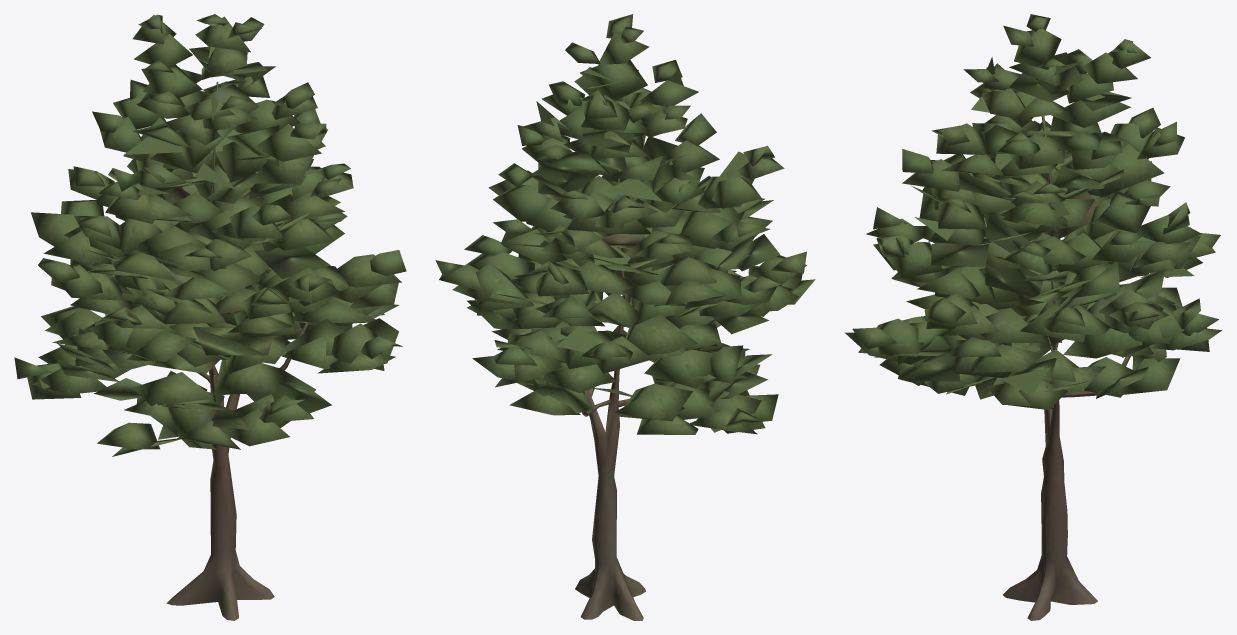
Rendered from meshy-roadside-tree.glb.
The picture shows the model from 3 angles, left to right: view 1: azimuth 30°, elevation 25°; view 2: azimuth 150°, elevation 25°; view 3: azimuth 270°, elevation 25°; orthographic projection. The views are drawn at different scales.
Bounding box in the file's own units: 0.6008 × 1 × 0.5953.
1 material, 1 textured.
